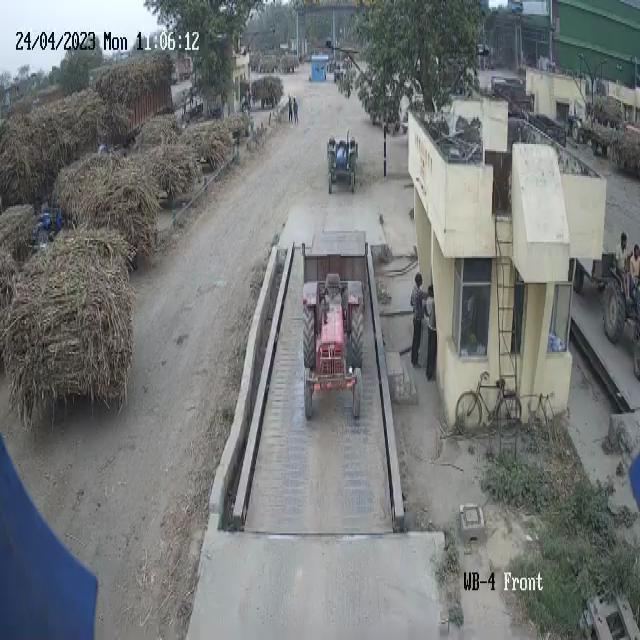Tratores - v5 YOLO V8L 2024-11-13: (300, 275, 372, 430), (324, 132, 360, 204)
